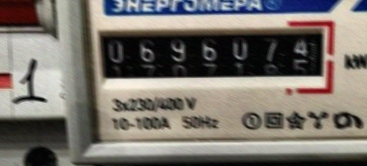0: (105, 35, 124, 60), (232, 32, 248, 58)
4: (293, 30, 309, 54)
5: (293, 54, 308, 72)
6: (138, 33, 157, 60), (200, 34, 217, 58)
7: (261, 33, 279, 59)
9: (168, 34, 187, 59)
screen: (87, 12, 340, 94)
